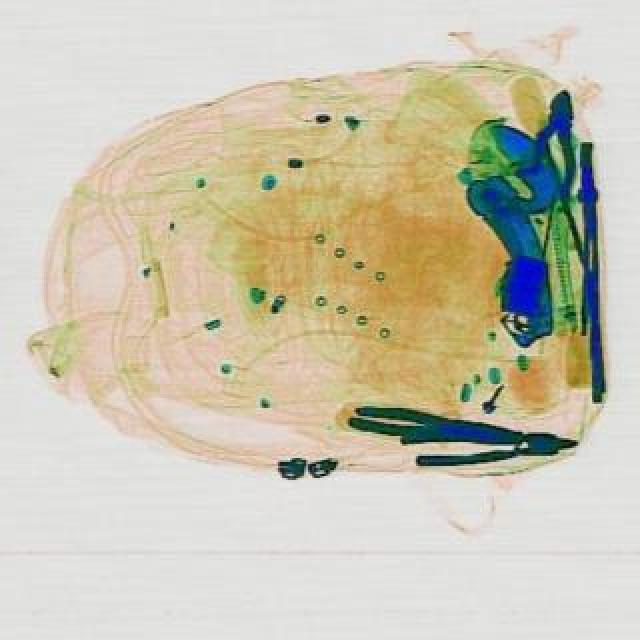wrench: (346, 402, 522, 458), (510, 84, 592, 200)
